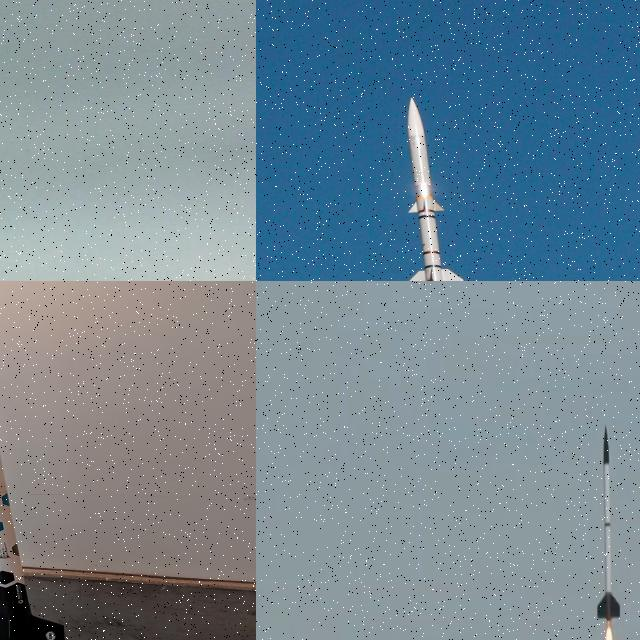Rocket: (403, 96, 467, 281), (596, 424, 622, 624)
